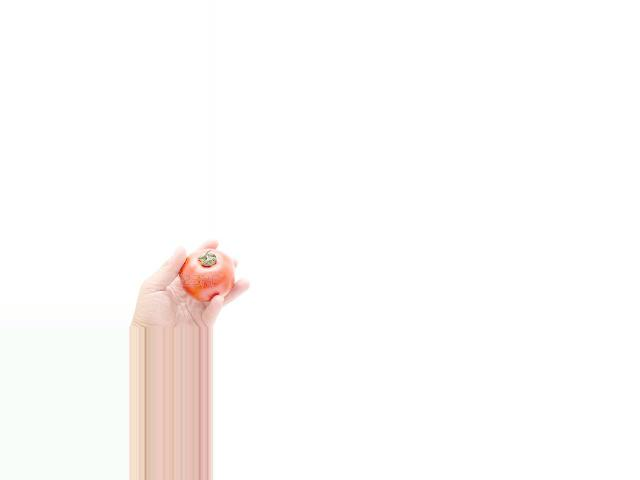tomato: (179, 249, 235, 301)
